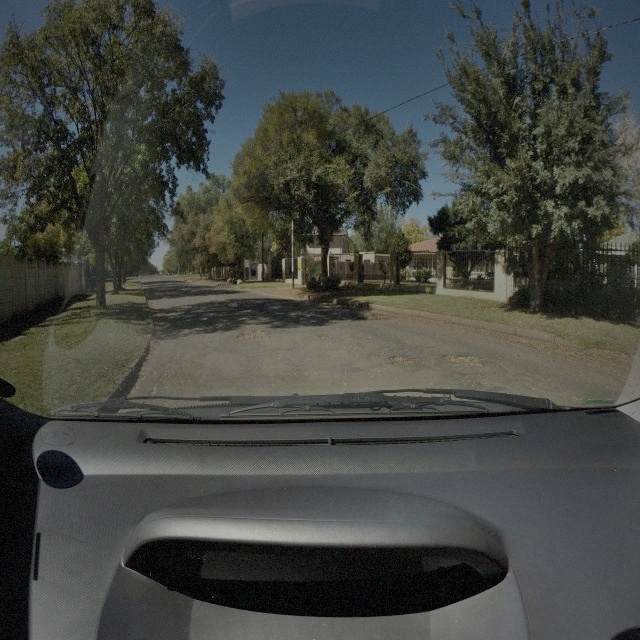pothole: (444, 350, 484, 372), (236, 325, 268, 341), (390, 352, 420, 366), (318, 334, 331, 342)
